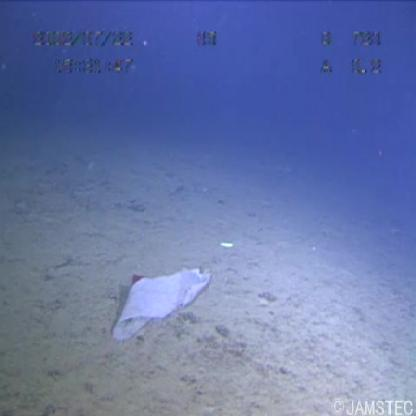Rác: (97, 256, 241, 340)
